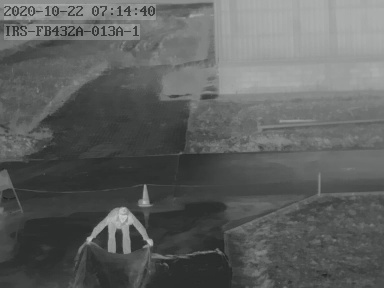vehicle: (86, 203, 154, 253)
